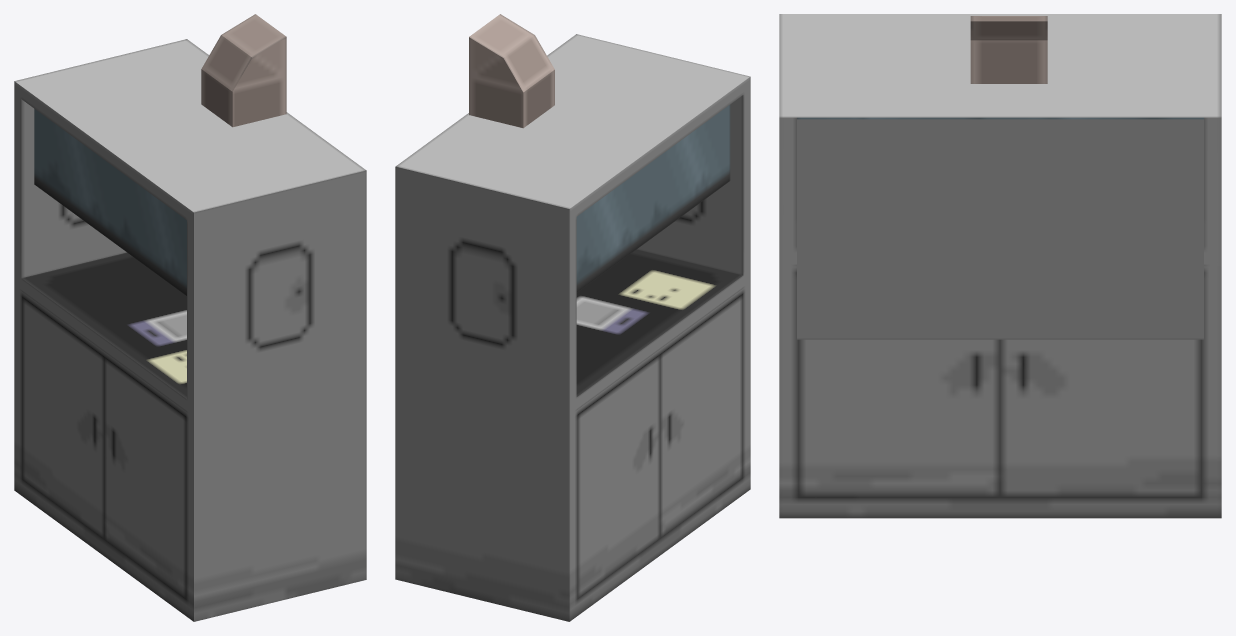
The model's file is obj_deduct.fbx.
The picture shows the model from 3 angles, left to right: view 1: azimuth 30°, elevation 25°; view 2: azimuth 150°, elevation 25°; view 3: azimuth 270°, elevation 25°; orthographic projection. The views are drawn at different scales.
Parts seen in each view (by area): view 1: obj_deduct; view 2: obj_deduct; view 3: obj_deduct.
Part boxes in pixels (x1,y1,x2,y2): obj_deduct: (14,14,366,621); obj_deduct: (395,14,750,621); obj_deduct: (779,14,1221,518).
Bounding box in the file's own units: 62.43 × 168 × 112.
